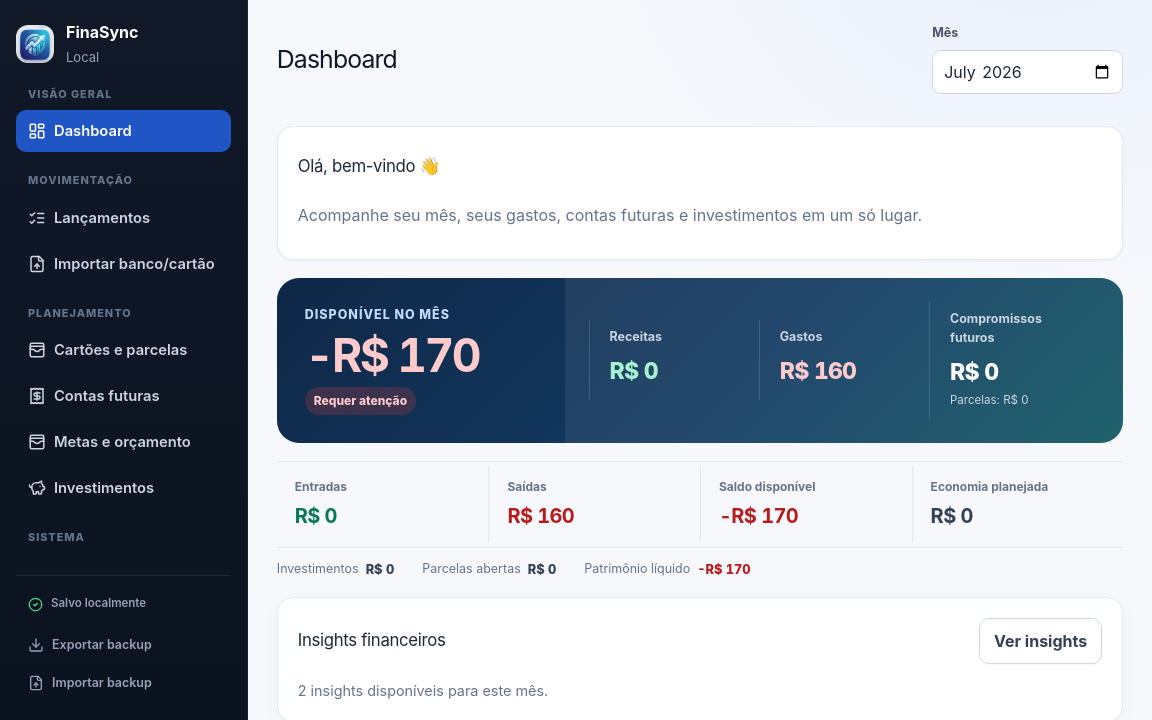
it: application flows › keeps transaction deletion working in local mode
The width and height of the screenshot is (1152, 720).
Click the button "Lançamentos": (124, 218) [16,197,231,239]
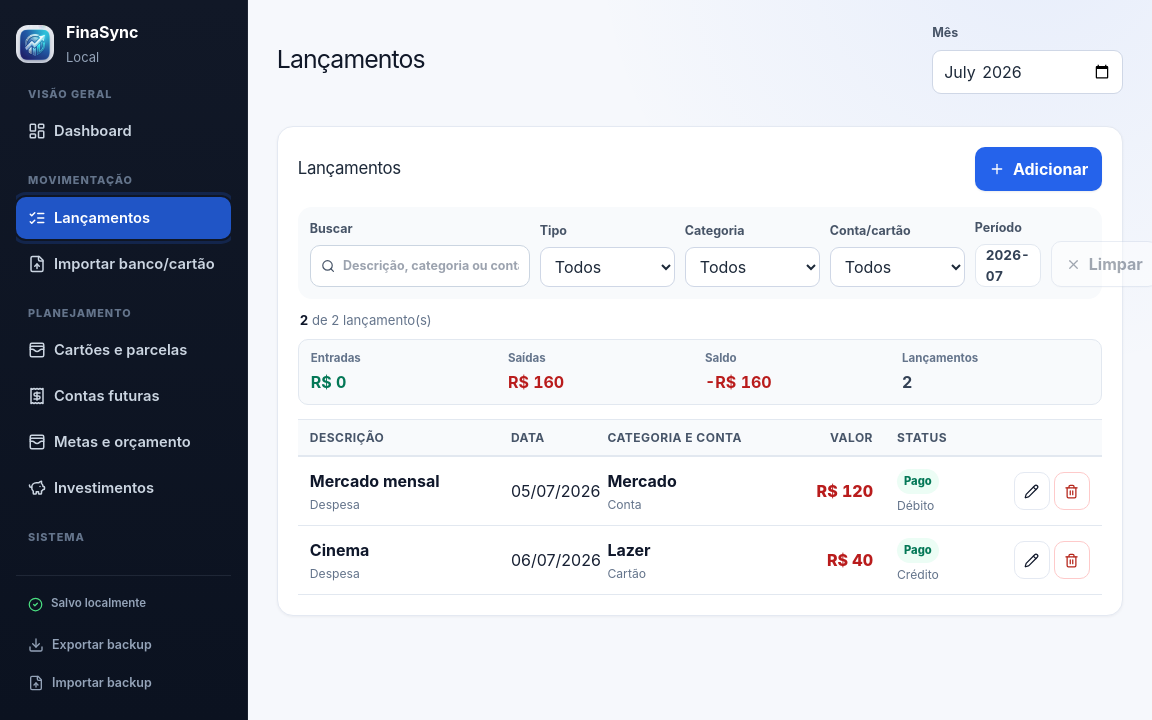
Click the button named "Excluir lançamento Mercado mensal": (1072, 491) [1054,472,1090,510]
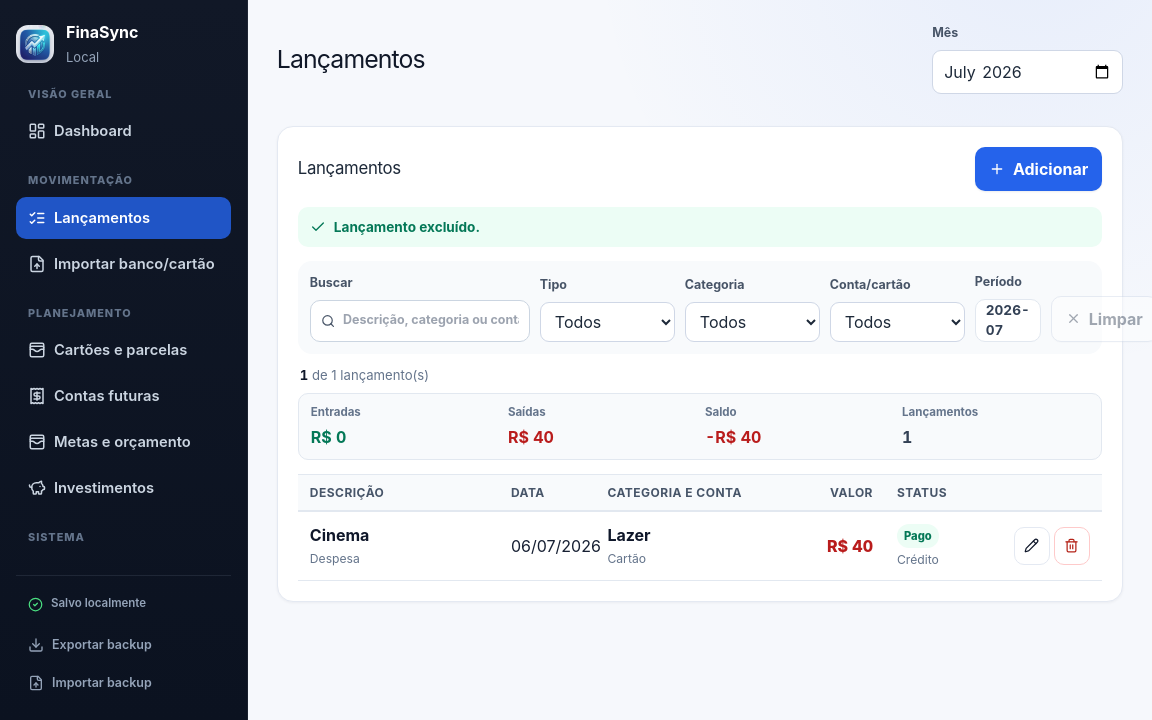
expect the text "Mercado mensal" is gone: met
